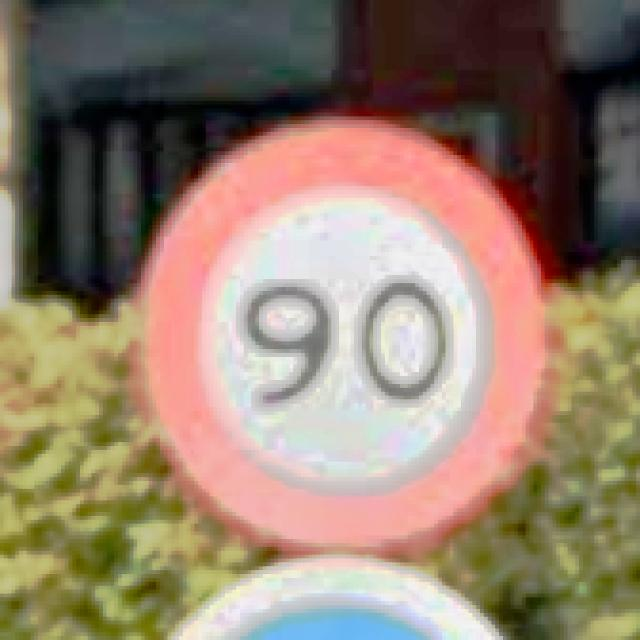max90: (130, 108, 556, 554)
